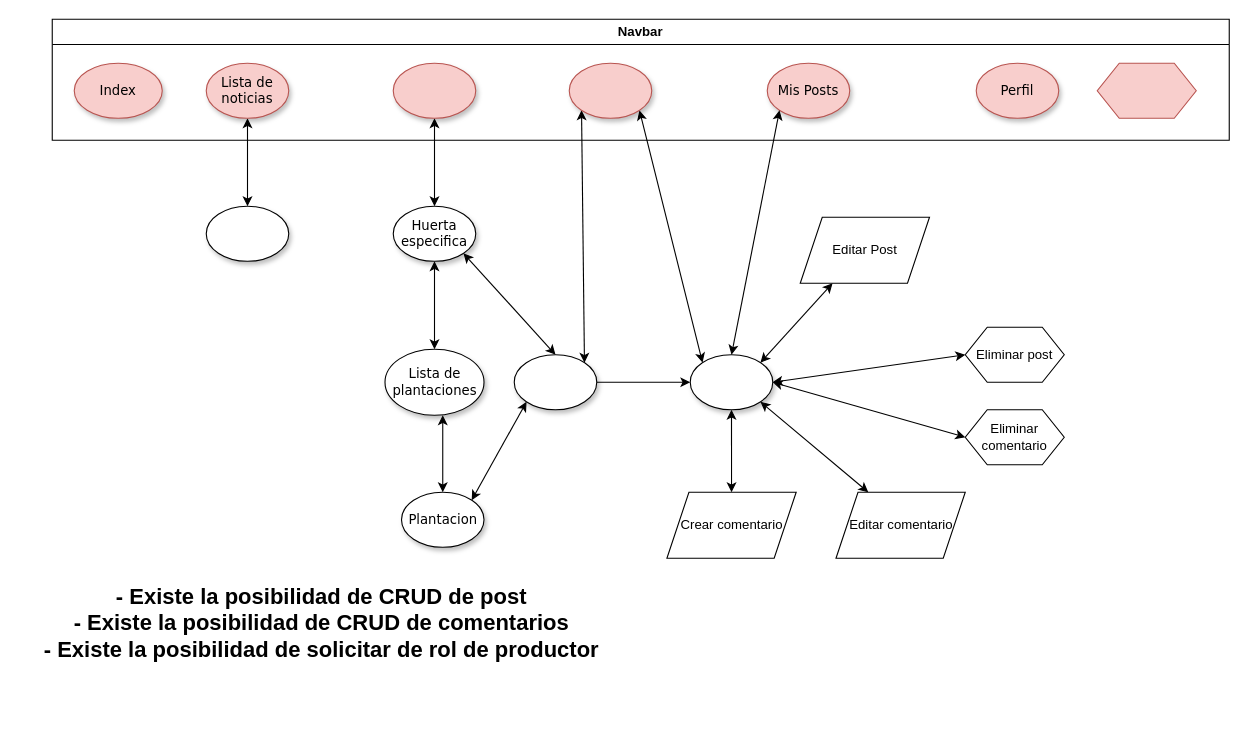
Image size: 1249x743. Some labels were removed from this diagram. The centre of each missing label's shape, as x and y in pixels:
"Crear post" goes at pixel 556 383.
"Lista de Huertas" goes at pixel 435 92.
"Lista de posts" goes at pixel 611 92.
"Login / Logout" goes at pixel 1146 90.
"Noticia especifica" goes at pixel 248 235.
"Post especifico" goes at pixel 732 383.
